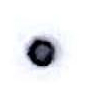cancer: (9, 18, 76, 85)
